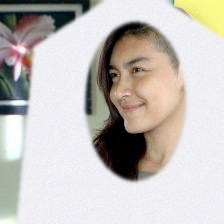Mukena: (24, 28, 224, 224)
